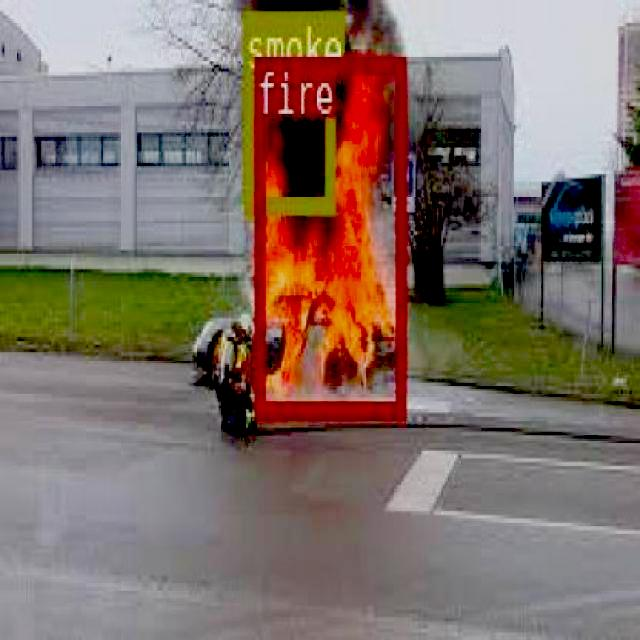fire: (254, 57, 403, 414)
smoke: (243, 9, 334, 209)
